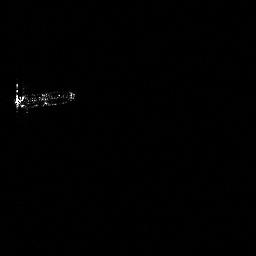ship: (14, 90, 76, 109)
